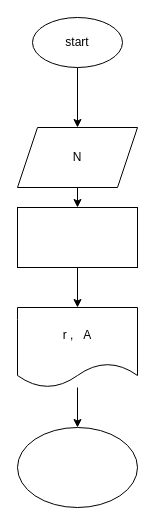
The diagram is 155 pixels wide and 525 high, and some of its shapes have lost their labels. The shapes that lost their labels are listed below. From the top down, each one's box as (x1, y1, x2, y2) in pixels, then its label:
(16, 206, 138, 268): r=random (1,N) A= r*r
(16, 426, 138, 508): finish
